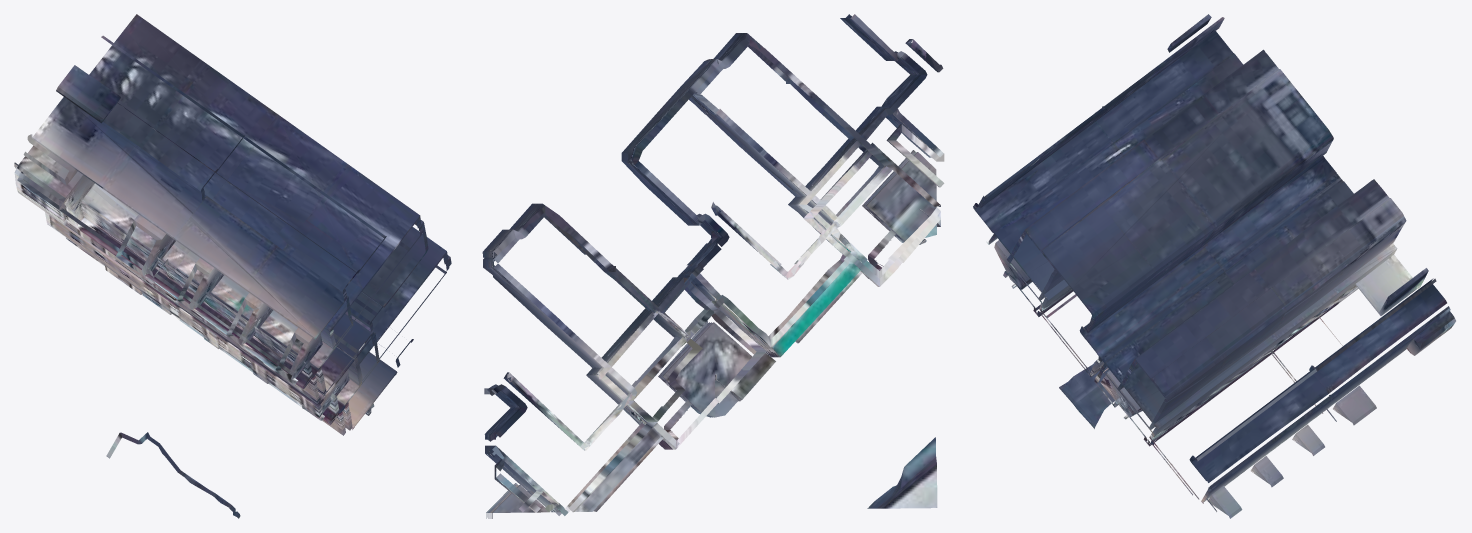
3 renders of one model, left to right at view 1: azimuth 30°, elevation 25°; view 2: azimuth 150°, elevation 25°; view 3: azimuth 270°, elevation 25°, orthographic. The views are drawn at different scales.
Size of the model in its own units: 46.37 by 50.43 by 57.18.
Materials: 3 (3 with a texture image).
